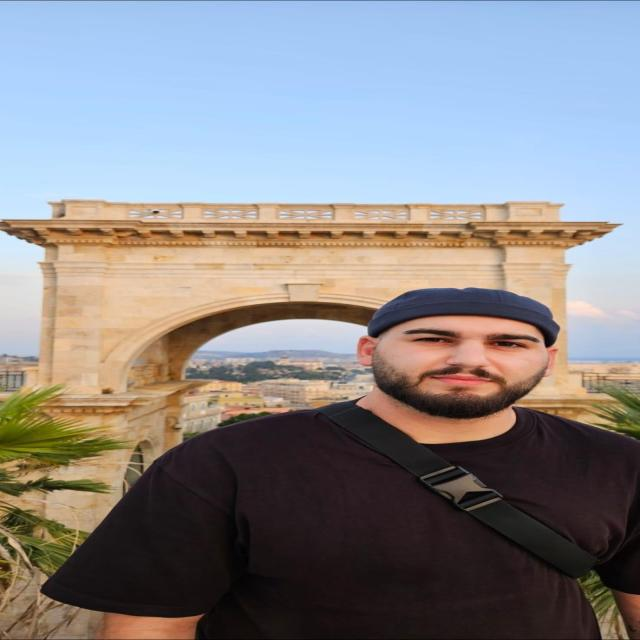Sero: (349, 283, 569, 422)
